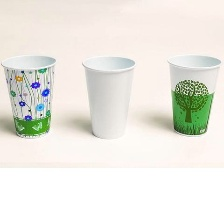paper_cup: (0, 49, 60, 142), (162, 50, 224, 139), (78, 51, 139, 141)
